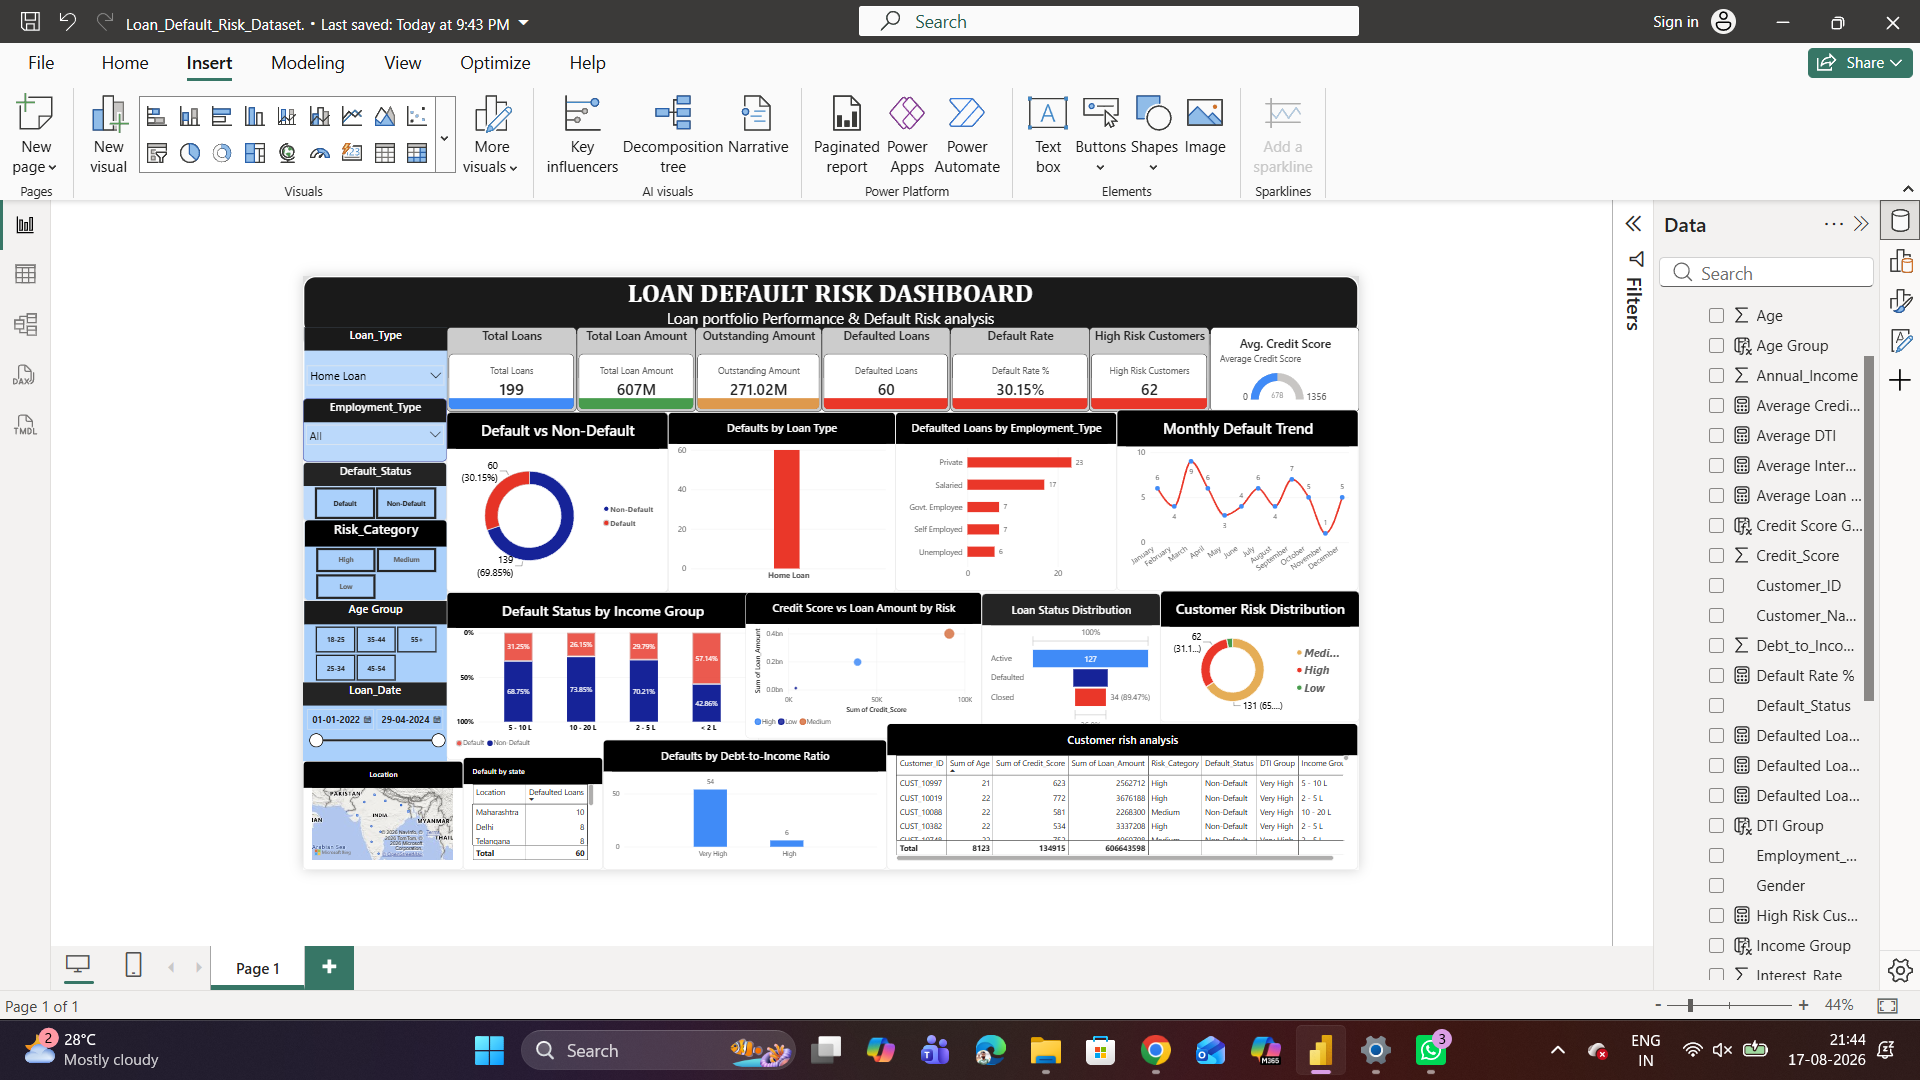

What the dashboard file says about the page in this screenshot:
{"tool":"powerbi","page":{"name":"Page 1","canvas":[1920,1080],"ordinal":0},"visuals":[{"type":"textbox","box":[0,0,1919.6,108.2],"z":0},{"type":"cardVisual","title":"Total Loans","fields":{"Data":["Loans.Total Loans"]},"box":[261.9,93.1,235.9,153.7],"z":1000},{"type":"cardVisual","title":"Total Loan Amount","fields":{"Data":["Loans.Total Loan Amount"]},"box":[497.8,93.1,216.4,153.7],"z":2000},{"type":"cardVisual","title":"Outstanding Amount","fields":{"Data":["Loans.Outstanding Amount"]},"box":[714.2,93.1,229.4,153.7],"z":3000},{"type":"cardVisual","title":"Defaulted Loans","fields":{"Data":["Loans.Defaulted Loans"]},"box":[943.6,93.1,233.7,153.7],"z":4000},{"type":"cardVisual","title":"Default Rate","fields":{"Data":["Loans.Default Rate %"]},"box":[1177.3,93.1,253.2,153.7],"z":5000},{"type":"cardVisual","title":"High Risk Customers","fields":{"Data":["Loans.High Risk Customers"]},"box":[1430.5,93.1,218.6,153.7],"z":6000},{"type":"gauge","title":"Avg. Credit Score","fields":{"Y":["Loans.Average Credit Score"]},"box":[1649.1,93.1,270.5,153.7],"z":7000},{"type":"slicer","title":"Loan_Type","fields":{"Values":["Loans.Loan_Type"]},"box":[2.2,93.1,259.7,129.8],"z":8000},{"type":"slicer","title":"Employment_Type","fields":{"Values":["Loans.Employment_Type"]},"box":[0,222.9,261.9,114.7],"z":9000},{"type":"slicer","title":"Default_Status","fields":{"Values":["Loans.Default_Status"]},"box":[0,337.6,261.9,106],"z":10000},{"type":"slicer","title":"Risk_Category","fields":{"Values":["Loans.Risk_Category"]},"box":[2.2,443.6,259.7,147.2],"z":11000},{"type":"slicer","title":"Loan_Date","fields":{"Values":["Loans.Loan_Date"]},"box":[0,738,261.9,142.8],"z":12000},{"type":"slicer","title":"Age Group","fields":{"Values":["Loans.Age Group"]},"box":[2.2,590.8,259.7,147.2],"z":13000},{"type":"donutChart","title":"Default vs Non-Default","fields":{"Category":["Loans.Default_Status"],"Y":["CountNonNull(Loans.Customer_ID)"]},"box":[261.4,247.7,402.3,327.3],"z":14000},{"type":"columnChart","title":"Defaults by Loan Type","fields":{"Category":["Loans.Loan_Type"],"Y":["Loans.Defaulted Loans"]},"box":[664.4,246.7,413.4,328.9],"z":15000},{"type":"clusteredBarChart","fields":{"Category":["Loans.Employment_Type"],"Y":["Loans.Defaulted Loans"]},"box":[1077.7,246.7,402.5,324.6],"z":16000},{"type":"lineChart","title":"Monthly Default Trend","fields":{"Category":["Loans.Loan_Date.Variation.Date Hierarchy.Month"],"Y":["Loans.Defaulted Loans"]},"box":[1480.3,242.4,439.3,328.9],"z":17000},{"type":"hundredPercentStackedColumnChart","title":"Default Status by Income Group","fields":{"Category":["Loans.Income Group"],"Series":["Loans.Default_Status"],"Y":["CountNonNull(Loans.Customer_ID)"]},"box":[261.9,575.7,567,305.1],"z":18000},{"type":"donutChart","title":"Customer Risk Distribution","fields":{"Category":["Loans.Risk_Category"],"Y":["CountNonNull(Loans.Customer_ID)"]},"box":[1559.1,572.7,361.4,238.6],"z":19000},{"type":"scatterChart","title":"Credit Score vs Loan Amount by Risk","fields":{"Series":["Loans.Risk_Category"],"Size":["Loans.Outstanding Amount"],"X":["Sum(Loans.Credit_Score)"],"Y":["Sum(Loans.Loan_Amount)"]},"box":[804.5,575,429.5,265.9],"z":20000},{"type":"clusteredColumnChart","title":"Defaults by Debt-to-Income Ratio","fields":{"Category":["Loans.DTI Group"],"Y":["Loans.Defaulted Loans"]},"box":[545.5,843.2,515.9,236.4],"z":21000},{"type":"funnel","title":"Loan Status Distribution","fields":{"Category":["Loans.Loan_Status"],"Y":["CountNonNull(Loans.Customer_ID)"]},"box":[1233.6,577.8,324.6,266.2],"z":22000},{"type":"map","title":"Location","fields":{"Category":["Loans.Location"],"Y":["Loans.Defaulted Loans"]},"box":[0,881.8,290.9,197.7],"z":23000},{"type":"tableEx","title":"Default by state","fields":{"Values":["Loans.Location","Loans.Defaulted Loans"]},"box":[290.9,875,254.5,204.5],"z":24000},{"type":"tableEx","title":"Customer rish analysis","fields":{"Values":["Loans.Customer_ID","Sum(Loans.Age)","Sum(Loans.Credit_Score)","Sum(Loans.Loan_Amount)","Loans.Risk_Category","Loans.Default_Status","Loans.DTI Group","Loans.Income Group"]},"box":[1061.4,813.6,856.8,265.9],"z":25000}]}

Visuals, with their boxes on the page's 1920x1080 design canvas (x1, y1, x2, y2). These are canvas units, not pixel positions in the 1920x1080 screenshot, which may show the page scaled, cropped or inside an application window:
textbox: {"x1": 0, "y1": 0, "x2": 1920, "y2": 108}
"Total Loans" cardVisual: {"x1": 262, "y1": 93, "x2": 498, "y2": 247}
"Total Loan Amount" cardVisual: {"x1": 498, "y1": 93, "x2": 714, "y2": 247}
"Outstanding Amount" cardVisual: {"x1": 714, "y1": 93, "x2": 944, "y2": 247}
"Defaulted Loans" cardVisual: {"x1": 944, "y1": 93, "x2": 1177, "y2": 247}
"Default Rate" cardVisual: {"x1": 1177, "y1": 93, "x2": 1430, "y2": 247}
"High Risk Customers" cardVisual: {"x1": 1430, "y1": 93, "x2": 1649, "y2": 247}
"Avg. Credit Score" gauge: {"x1": 1649, "y1": 93, "x2": 1920, "y2": 247}
"Loan_Type" slicer: {"x1": 2, "y1": 93, "x2": 262, "y2": 223}
"Employment_Type" slicer: {"x1": 0, "y1": 223, "x2": 262, "y2": 338}
"Default_Status" slicer: {"x1": 0, "y1": 338, "x2": 262, "y2": 444}
"Risk_Category" slicer: {"x1": 2, "y1": 444, "x2": 262, "y2": 591}
"Loan_Date" slicer: {"x1": 0, "y1": 738, "x2": 262, "y2": 881}
"Age Group" slicer: {"x1": 2, "y1": 591, "x2": 262, "y2": 738}
"Default vs Non-Default" donutChart: {"x1": 261, "y1": 248, "x2": 664, "y2": 575}
"Defaults by Loan Type" columnChart: {"x1": 664, "y1": 247, "x2": 1078, "y2": 576}
clusteredBarChart - Loans.Employment_Type x Loans.Defaulted Loans: {"x1": 1078, "y1": 247, "x2": 1480, "y2": 571}
"Monthly Default Trend" lineChart: {"x1": 1480, "y1": 242, "x2": 1920, "y2": 571}
"Default Status by Income Group" hundredPercentStackedColumnChart: {"x1": 262, "y1": 576, "x2": 829, "y2": 881}
"Customer Risk Distribution" donutChart: {"x1": 1559, "y1": 573, "x2": 1920, "y2": 811}
"Credit Score vs Loan Amount by Risk" scatterChart: {"x1": 804, "y1": 575, "x2": 1234, "y2": 841}
"Defaults by Debt-to-Income Ratio" clusteredColumnChart: {"x1": 546, "y1": 843, "x2": 1061, "y2": 1080}
"Loan Status Distribution" funnel: {"x1": 1234, "y1": 578, "x2": 1558, "y2": 844}
"Location" map: {"x1": 0, "y1": 882, "x2": 291, "y2": 1080}
"Default by state" tableEx: {"x1": 291, "y1": 875, "x2": 545, "y2": 1080}
"Customer rish analysis" tableEx: {"x1": 1061, "y1": 814, "x2": 1918, "y2": 1080}
